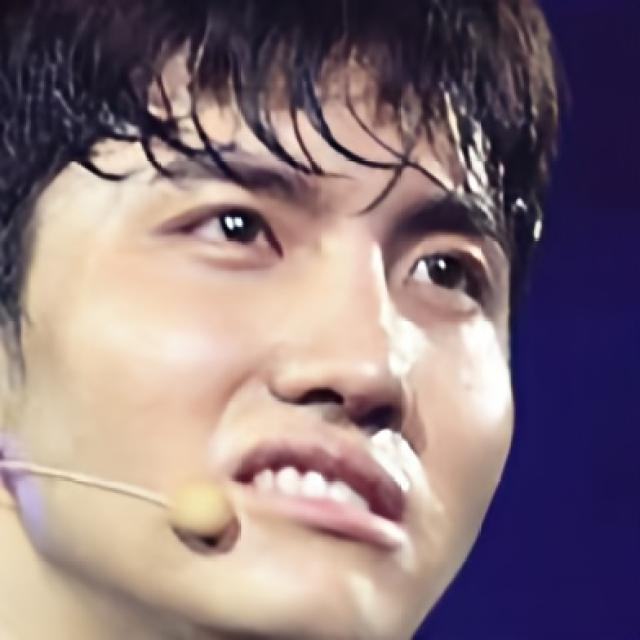disgust: (0, 20, 517, 640)
